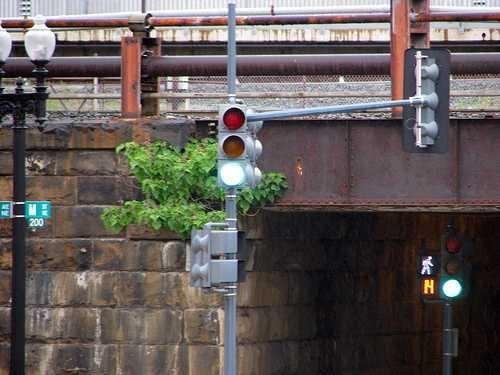green: (218, 104, 250, 189), (438, 226, 466, 300), (218, 158, 250, 188)
